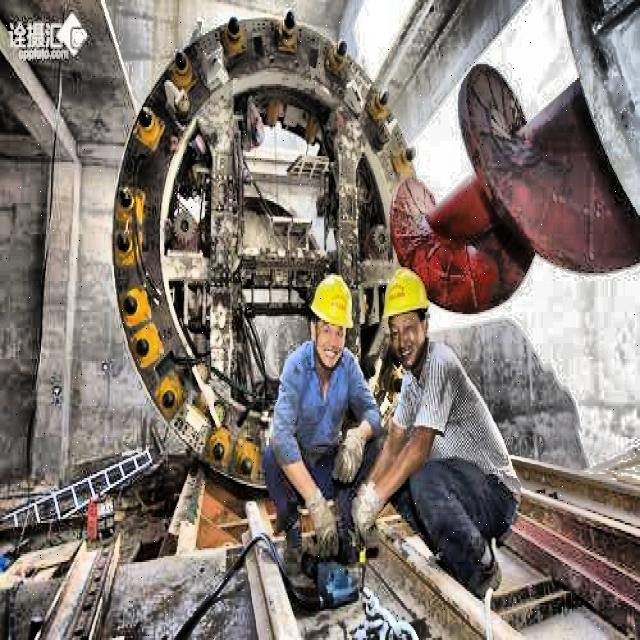helmet: (380, 259, 432, 369), (308, 267, 356, 365)
